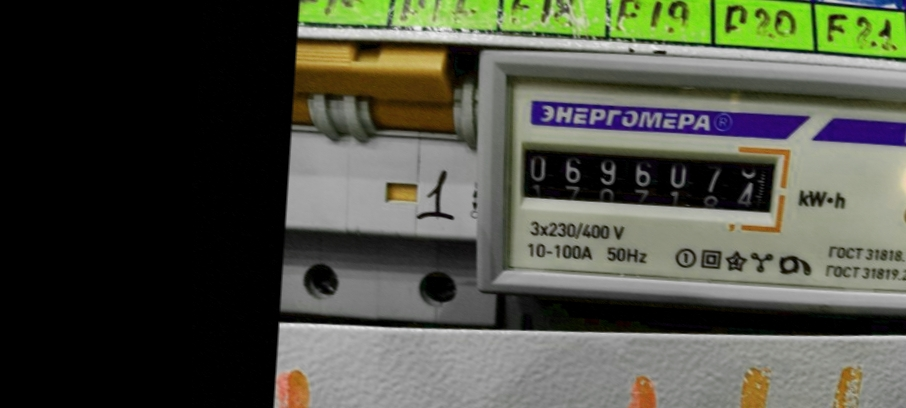0: (526, 153, 549, 184), (668, 161, 689, 191)
4: (734, 180, 755, 210)
6: (632, 159, 654, 191), (562, 155, 583, 186)
7: (703, 162, 723, 194)
9: (597, 158, 619, 188)
screen: (506, 126, 794, 236)
